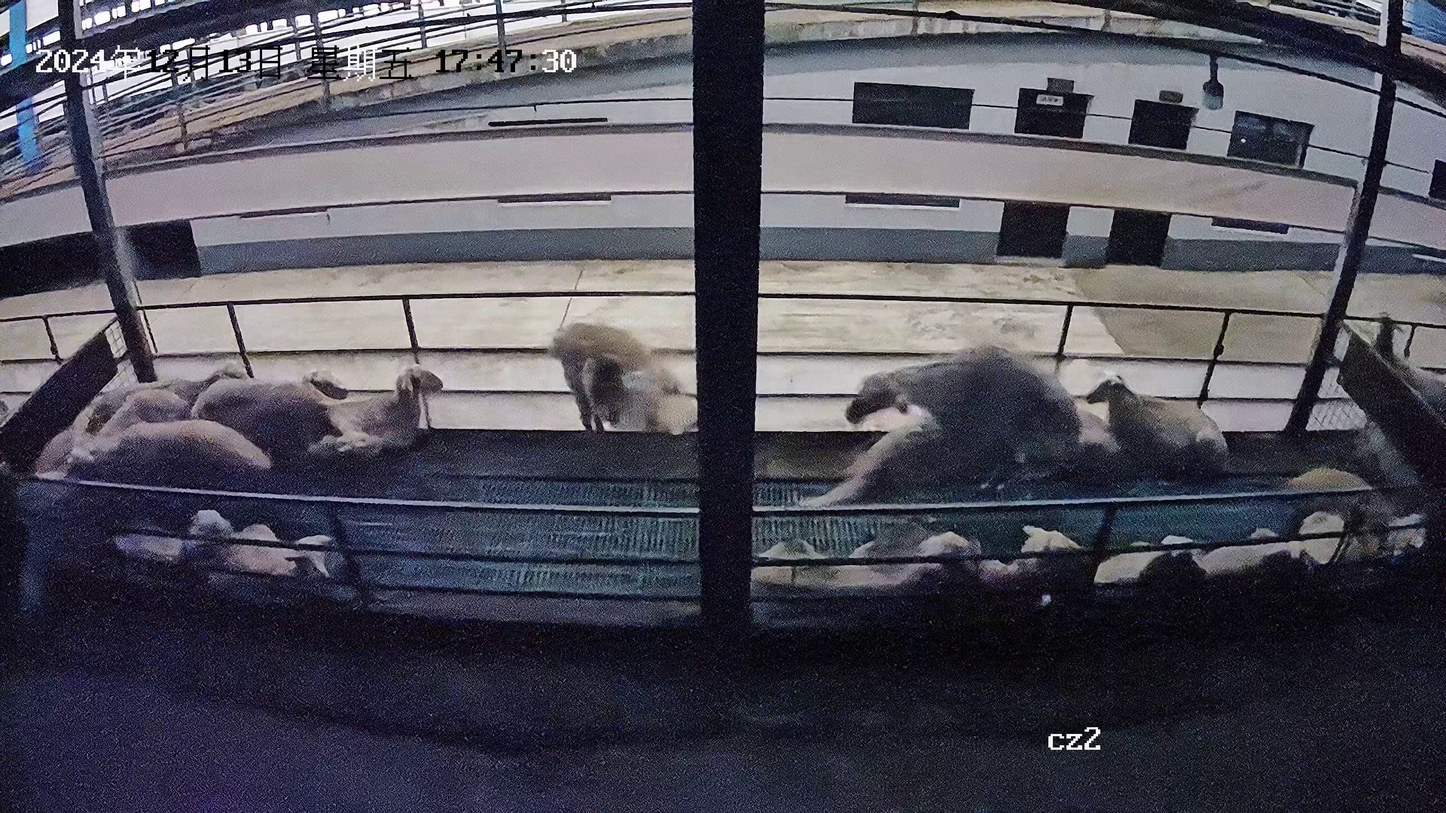Smounting: (789, 339, 1081, 510)
mounted: (792, 409, 969, 506)
